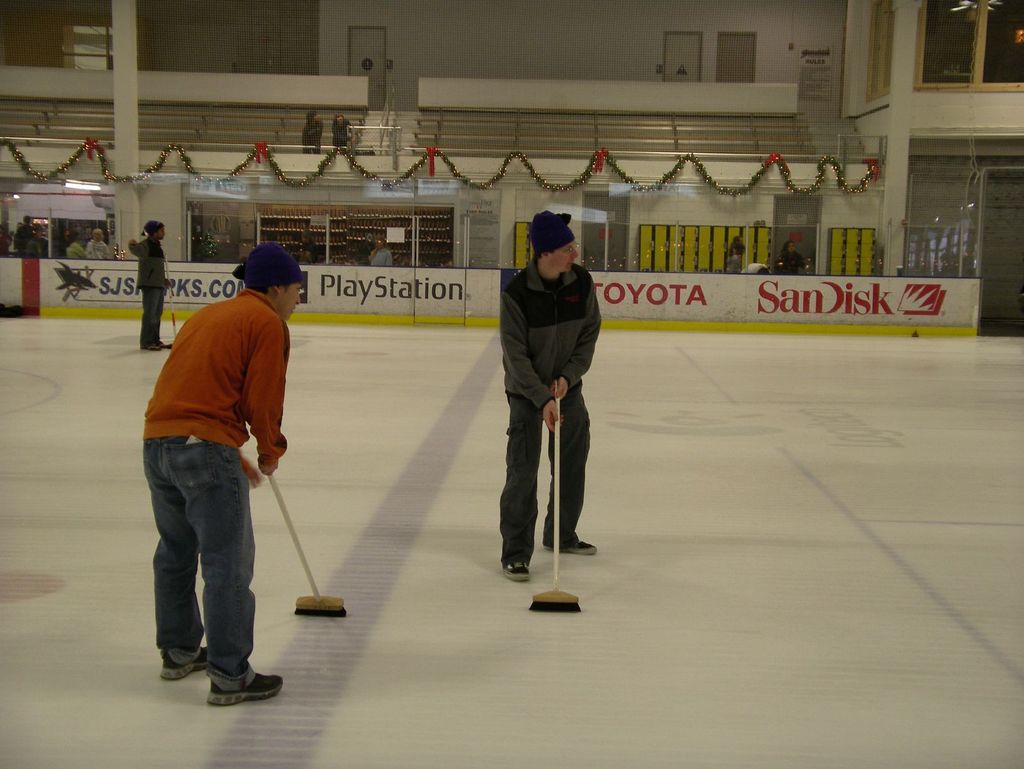Person: (142, 242, 300, 704), (499, 210, 599, 582), (134, 222, 167, 347), (774, 240, 806, 275), (290, 228, 317, 262), (302, 109, 323, 151), (26, 225, 52, 258), (86, 228, 112, 259), (12, 212, 31, 253), (331, 112, 354, 145), (366, 236, 388, 266), (65, 231, 86, 261), (729, 237, 744, 272), (742, 262, 770, 273), (0, 226, 9, 259)
